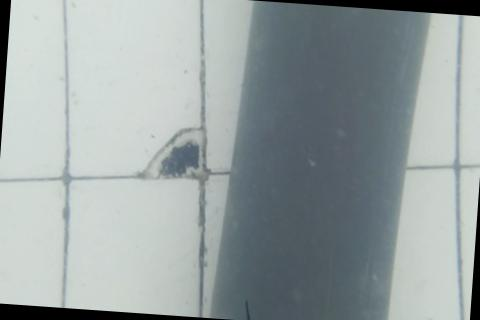keretakan: (243, 297, 253, 320)
